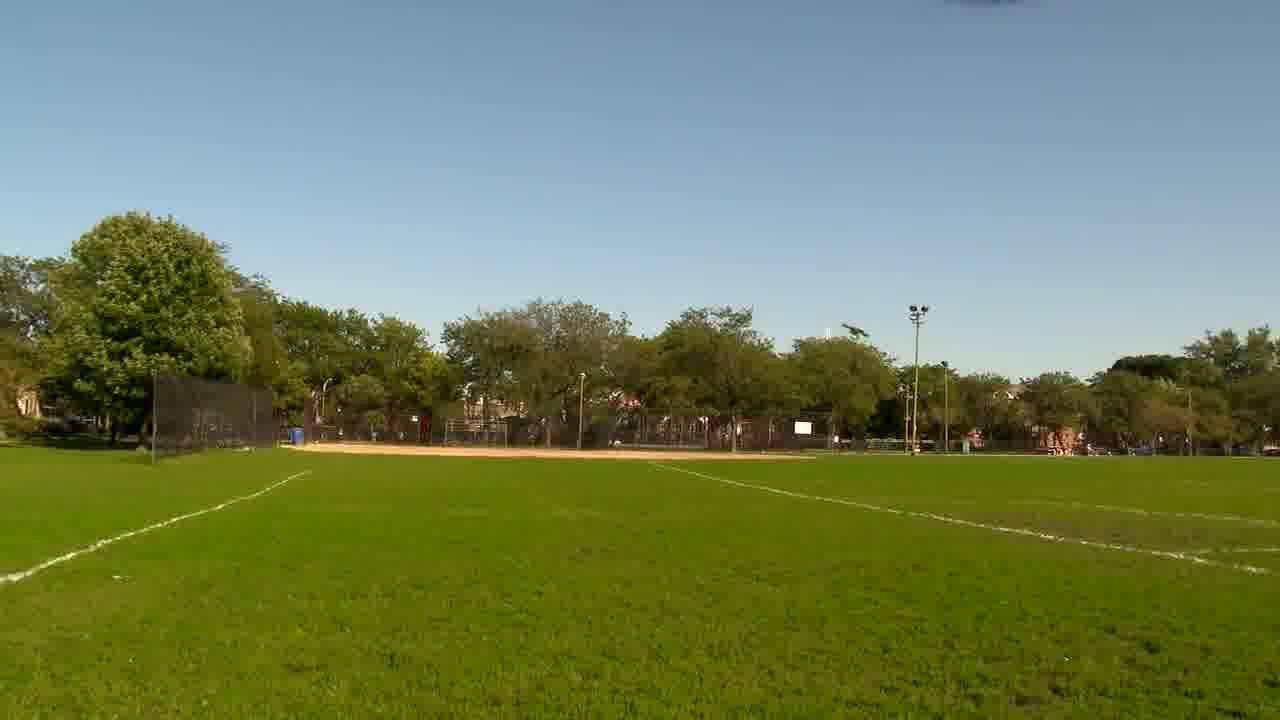drone: (832, 309, 881, 345)
